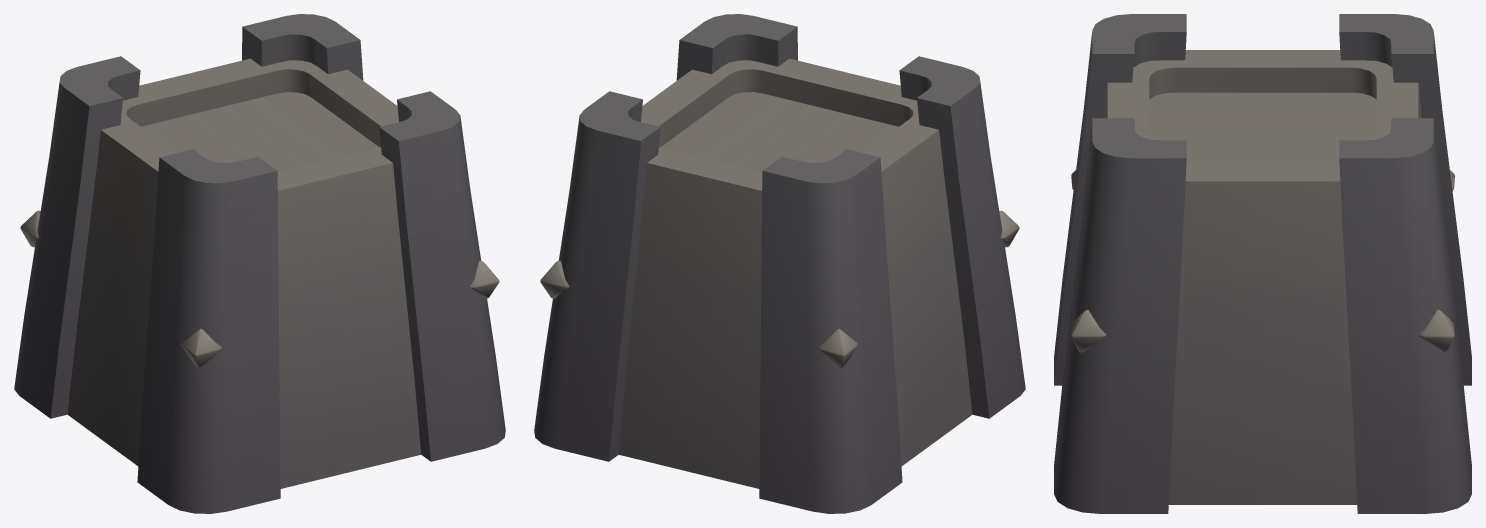
The model's file is mechTower_lvl2.fbx.
3 renders of one model, left to right at view 1: azimuth 30°, elevation 25°; view 2: azimuth 150°, elevation 25°; view 3: azimuth 270°, elevation 25°, orthographic. The views are drawn at different scales.
Visible parts, largest first — view 1: canTwr_lvl2; view 2: canTwr_lvl2; view 3: canTwr_lvl2.
Boxes of the visible parts, left/top/right/bottom form: canTwr_lvl2: left=14, top=14, right=505, bottom=513; canTwr_lvl2: left=534, top=14, right=1025, bottom=513; canTwr_lvl2: left=1054, top=14, right=1471, bottom=513.
Size of the model in its own units: 147 by 132 by 147.
